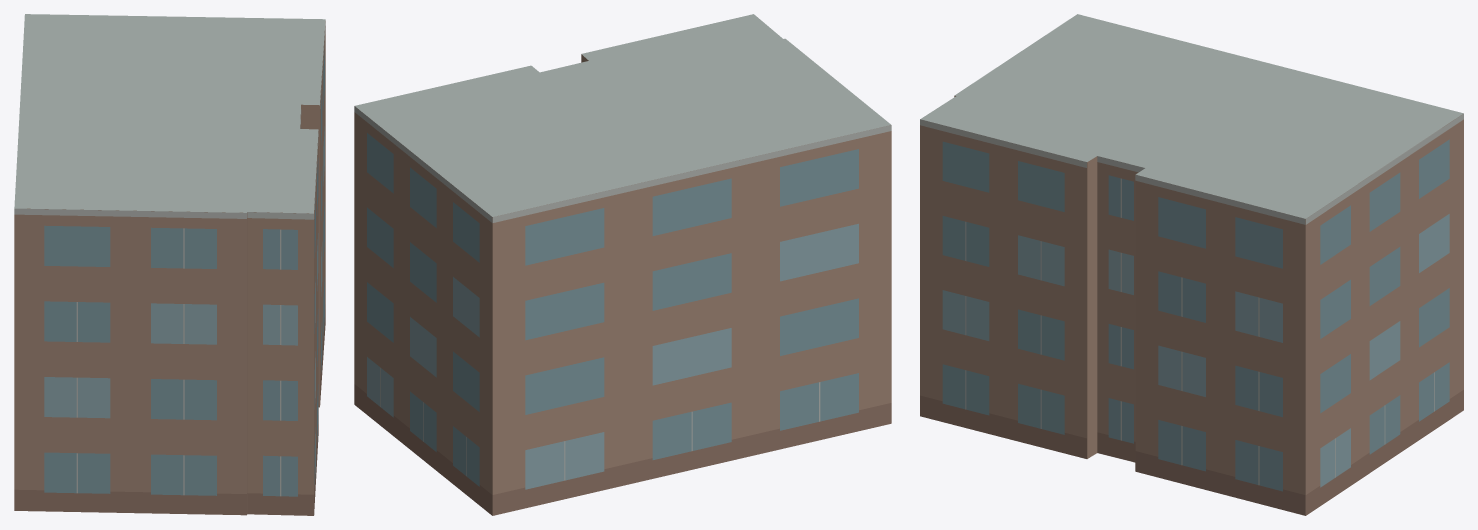
Rendered from survey-upis-32662143.glb.
3 renders of one model, left to right at view 1: azimuth 30°, elevation 25°; view 2: azimuth 150°, elevation 25°; view 3: azimuth 270°, elevation 25°, orthographic.
Parts seen in each view (by area): view 1: survey-upis-32662143.tmp; view 2: survey-upis-32662143.tmp; view 3: survey-upis-32662143.tmp.
Boxes of the visible parts, left/top/right/bottom form: survey-upis-32662143.tmp: left=14, top=14, right=325, bottom=515; survey-upis-32662143.tmp: left=354, top=14, right=891, bottom=515; survey-upis-32662143.tmp: left=920, top=14, right=1463, bottom=515.
Size of the model in its own units: 17.76 by 12 by 19.92.
